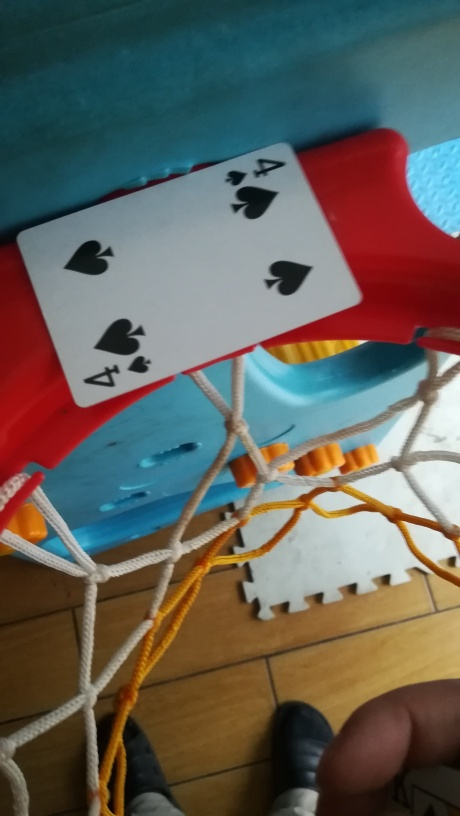ht 4: (18, 140, 368, 407)
